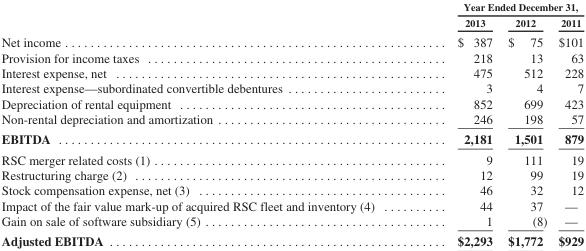table: (0, 0, 583, 248)
table column: (0, 0, 415, 248), (415, 0, 499, 248), (499, 0, 552, 248), (552, 0, 583, 248)
table column header: (0, 0, 583, 31)
table row: (0, 128, 583, 149), (0, 31, 583, 49), (0, 110, 583, 128), (0, 149, 583, 167), (0, 230, 583, 248), (0, 14, 583, 31), (0, 213, 583, 230), (0, 64, 583, 80), (0, 197, 583, 213), (0, 49, 583, 64), (0, 80, 583, 95), (0, 95, 583, 110), (0, 167, 583, 182), (0, 182, 583, 197), (0, 0, 583, 14)
table spanning cell: (415, 0, 583, 14)
